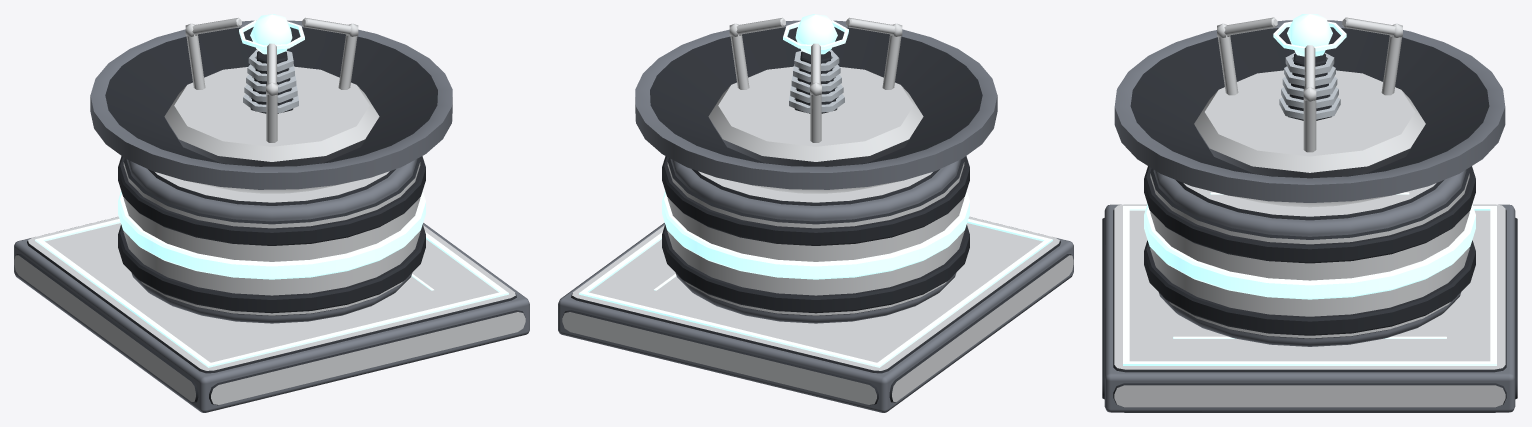
File: R4X_EMPTrapDeployer.fbx
3 views of the same model, side by side, from view 1: azimuth 30°, elevation 25°; view 2: azimuth 150°, elevation 25°; view 3: azimuth 270°, elevation 25° (orthographic). The views are drawn at different scales.
Parts seen in each view (by area): view 1: R4X_EMPTrapDeployer_Body, R4X_EMPTrapDeployer_Payload; view 2: R4X_EMPTrapDeployer_Body, R4X_EMPTrapDeployer_Payload; view 3: R4X_EMPTrapDeployer_Body, R4X_EMPTrapDeployer_Payload.
Part boxes in pixels (<box>): R4X_EMPTrapDeployer_Body: <box>14,20,529,412</box>; R4X_EMPTrapDeployer_Payload: <box>164,14,379,166</box>; R4X_EMPTrapDeployer_Body: <box>558,20,1073,412</box>; R4X_EMPTrapDeployer_Payload: <box>708,14,923,166</box>; R4X_EMPTrapDeployer_Body: <box>1102,20,1517,412</box>; R4X_EMPTrapDeployer_Payload: <box>1194,14,1425,178</box>.
Size of the model in its own units: 0.52 by 0.437 by 0.52.
